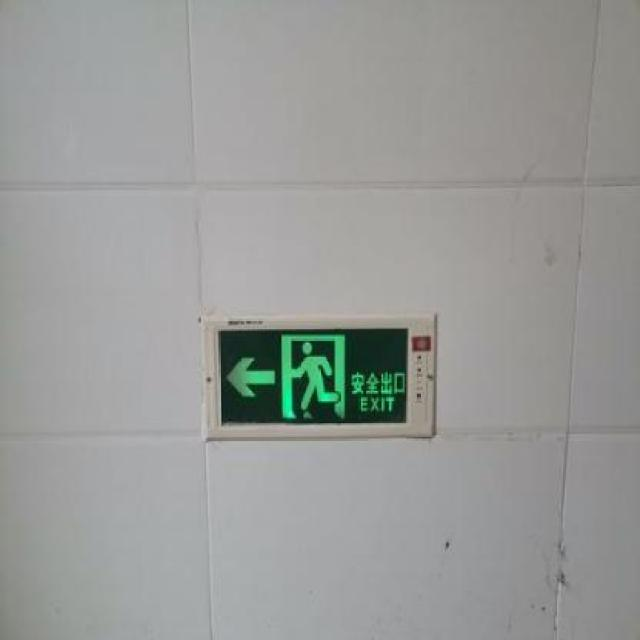exit_sign: (188, 305, 440, 447)
